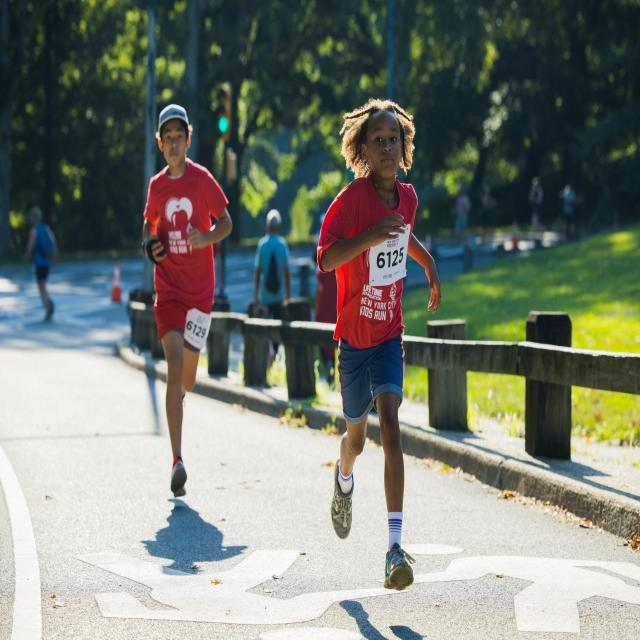Person: (318, 99, 442, 590), (142, 104, 233, 500), (253, 207, 292, 309), (26, 206, 56, 320)
